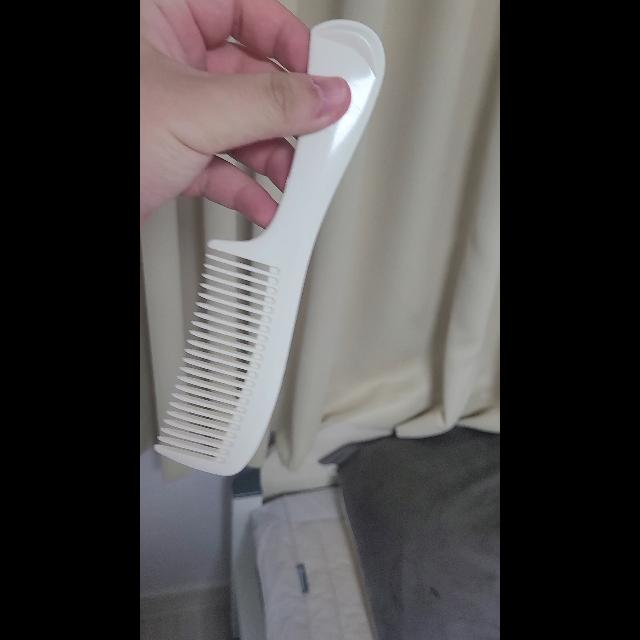COMB: (154, 19, 386, 477)
